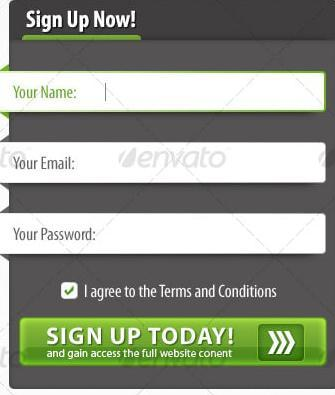button: (21, 319, 327, 367)
checkbox: (61, 282, 79, 300)
input: (1, 142, 327, 184), (1, 72, 327, 113), (1, 215, 327, 255)
label: (84, 282, 287, 303)
